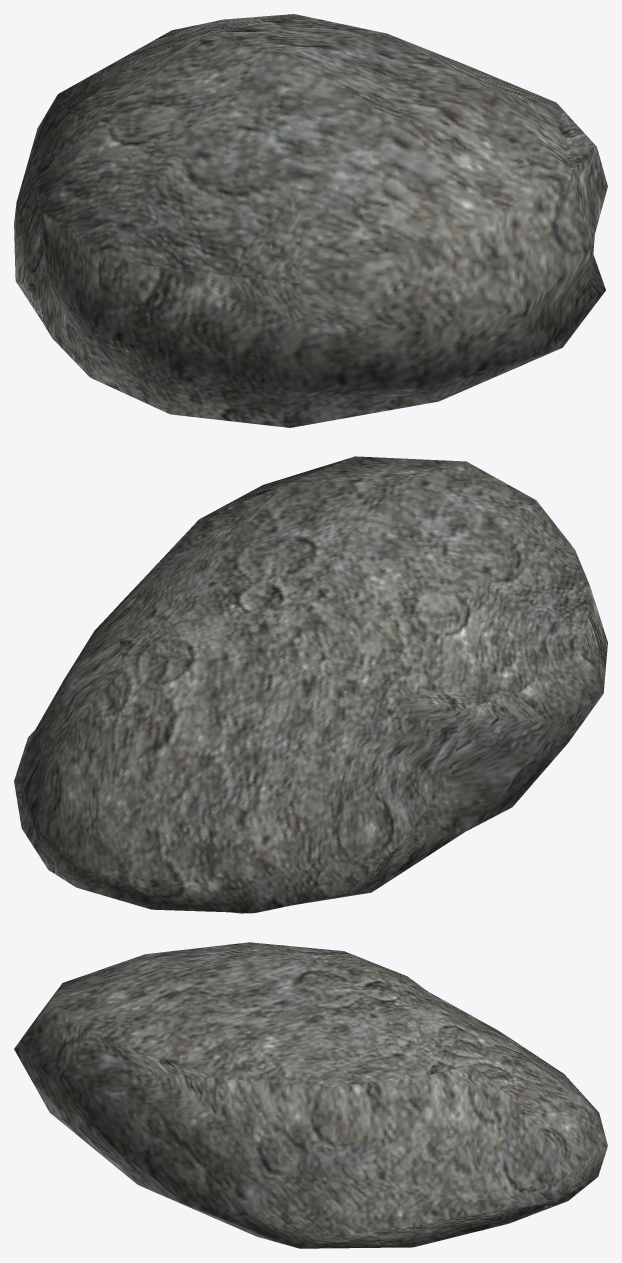
Rendered from asteroide.fbx.
The picture shows the model from 3 angles, top to bottom: view 1: azimuth 30°, elevation 25°; view 2: azimuth 150°, elevation 25°; view 3: azimuth 270°, elevation 25°; orthographic projection. The views are drawn at different scales.
Visible parts, largest first — view 1: Cube; view 2: Cube; view 3: Cube.
Part boxes in pixels (x1,y1,x2,y2): Cube: (14,14,607,427); Cube: (14,456,607,913); Cube: (14,942,607,1248).
Size of the model in its own units: 413 by 230 by 556.
